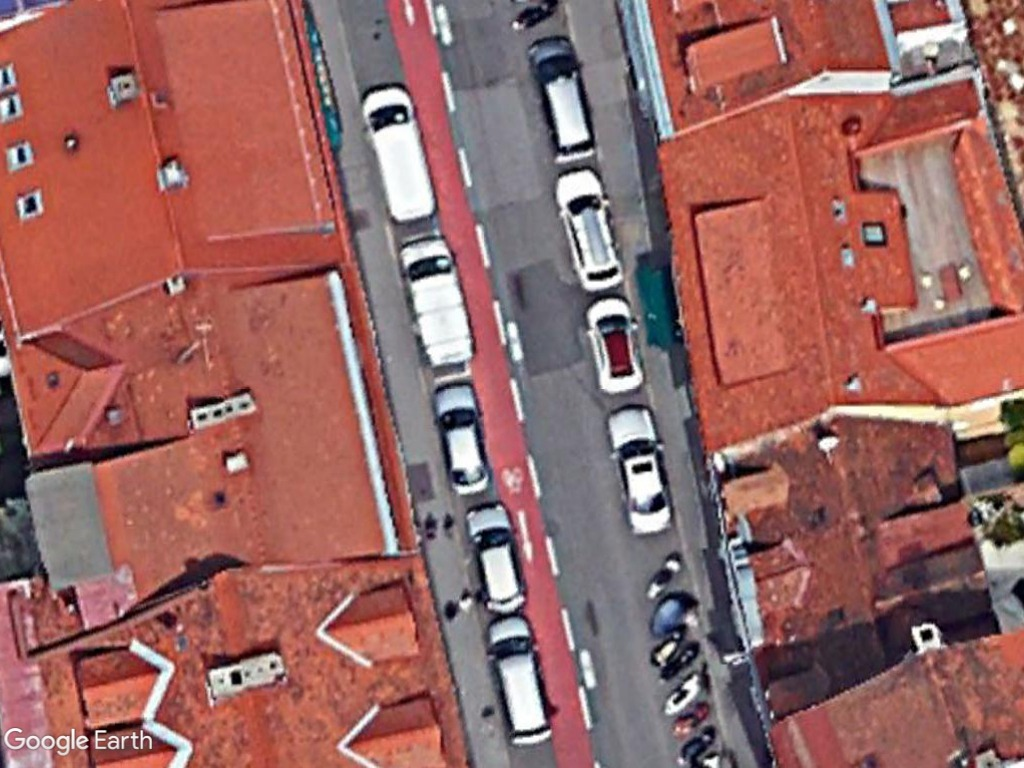car: (544, 164, 624, 297), (522, 35, 600, 167), (481, 613, 552, 750), (597, 402, 670, 535), (461, 497, 533, 617), (428, 378, 496, 500), (584, 293, 644, 398)
van: (353, 81, 439, 229), (394, 232, 479, 367)
